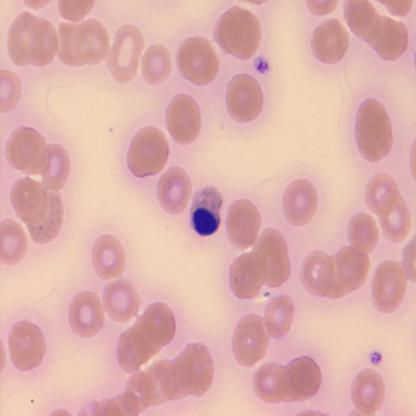NRC: (186, 185, 223, 238)
